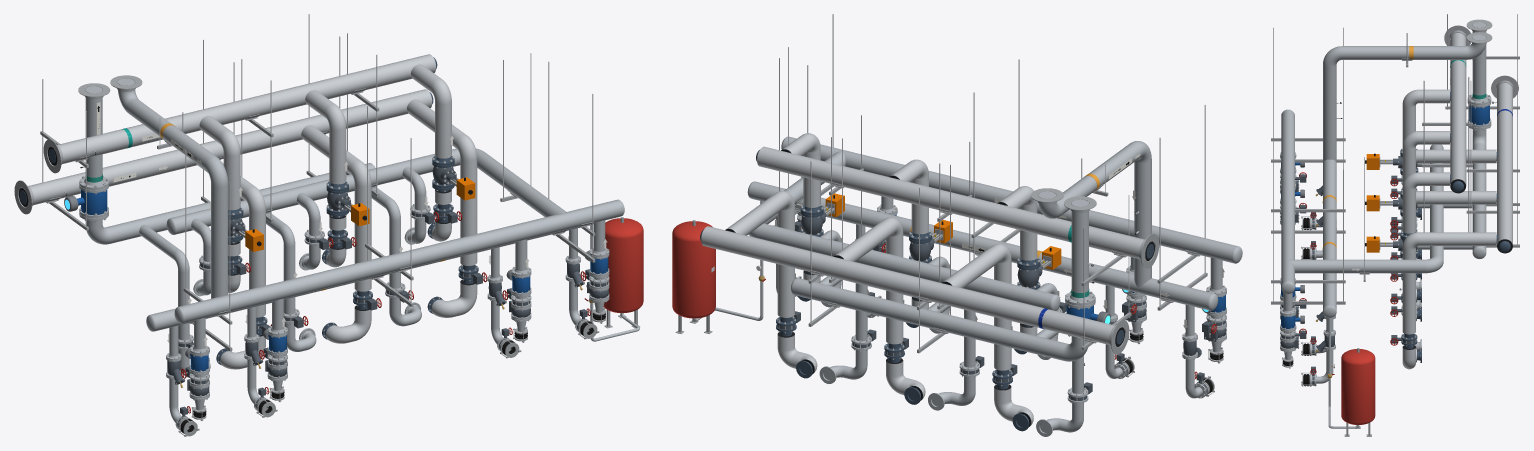
The model's file is pcw-loop.glb.
3 renders of one model, left to right at view 1: azimuth 30°, elevation 25°; view 2: azimuth 150°, elevation 25°; view 3: azimuth 270°, elevation 25°, orthographic. The views are drawn at different scales.
Visible parts, largest first — view 1: PCWL_DischargeHeader, PCWL_CHWReturnHeader, PCWL_CHWSupplyHeader, PCWL_Supports, PCWL_ReturnMain, PCWL_HXInletHeader, PCWL_SupplyHeader, TK_1101_Expansion, PCWL_HX03_CHWIn, PCWL_HX02_CHWIn, PCWL_HX02_CHWOut, PCWL_HX03_CHWOut (+19 smaller); view 2: PCWL_CHWSupplyHeader, PCWL_CHWReturnHeader, PCWL_SupplyHeader, PCWL_Supports, PCWL_ReturnHeader, PCWL_DischargeHeader, PCWL_HXInletHeader, PCWL_ReturnMain, TK_1101_Expansion, PCWL_HX03_CHWIn, PCWL_HX02_CHWIn, PCWL_HX01_CHWIn (+13 smaller); view 3: PCWL_Supports, PCWL_ReturnMain, PCWL_HXInletHeader, PCWL_CHWSupplyHeader, PCWL_HX03_CHWIn, PCWL_CHWReturnHeader, TK_1101_Expansion, PCWL_DischargeHeader, PCWL_SupplyHeader, PCWL_ReturnHeader, PCWL_HX03_CHWOut, PCWL_HX02_CHWIn (+15 smaller).
Boxes of the visible parts, left/top/right/bottom form: PCWL_DischargeHeader: left=174, top=199, right=624, bottom=323; PCWL_CHWReturnHeader: left=43, top=54, right=437, bottom=173; PCWL_CHWSupplyHeader: left=14, top=89, right=433, bottom=214; PCWL_Supports: left=40, top=14, right=595, bottom=351; PCWL_ReturnMain: left=110, top=75, right=228, bottom=298; PCWL_HXInletHeader: left=166, top=148, right=565, bottom=234; PCWL_SupplyHeader: left=78, top=83, right=375, bottom=244; TK_1101_Expansion: left=603, top=217, right=643, bottom=328; PCWL_HX03_CHWIn: left=407, top=99, right=477, bottom=317; PCWL_HX02_CHWIn: left=301, top=125, right=371, bottom=343; PCWL_HX02_CHWOut: left=305, top=90, right=348, bottom=267; PCWL_HX03_CHWOut: left=411, top=64, right=453, bottom=241; PCWL_CHWSupplyHeader: left=700, top=226, right=1129, bottom=354; PCWL_CHWReturnHeader: left=756, top=146, right=1159, bottom=268; PCWL_SupplyHeader: left=791, top=196, right=1096, bottom=361; PCWL_Supports: left=779, top=14, right=1207, bottom=353; PCWL_ReturnHeader: left=747, top=181, right=1218, bottom=310; PCWL_DischargeHeader: left=781, top=136, right=1242, bottom=263; PCWL_HXInletHeader: left=748, top=150, right=1060, bottom=310; PCWL_ReturnMain: left=1031, top=141, right=1151, bottom=288; TK_1101_Expansion: left=672, top=220, right=715, bottom=333; PCWL_HX03_CHWIn: left=725, top=191, right=817, bottom=378; PCWL_HX02_CHWIn: left=833, top=217, right=925, bottom=404; PCWL_HX01_CHWIn: left=942, top=243, right=1033, bottom=431; PCWL_Supports: left=1271, top=14, right=1519, bottom=304; PCWL_ReturnMain: left=1323, top=32, right=1492, bottom=161; PCWL_HXInletHeader: left=1288, top=144, right=1443, bottom=273; PCWL_CHWSupplyHeader: left=1491, top=75, right=1518, bottom=253; PCWL_HX03_CHWIn: left=1402, top=232, right=1498, bottom=369; PCWL_CHWReturnHeader: left=1444, top=25, right=1471, bottom=193; TK_1101_Expansion: left=1341, top=348, right=1375, bottom=436; PCWL_DischargeHeader: left=1281, top=109, right=1295, bottom=293; PCWL_SupplyHeader: left=1466, top=19, right=1492, bottom=258; PCWL_ReturnHeader: left=1322, top=159, right=1336, bottom=317; PCWL_HX03_CHWOut: left=1402, top=172, right=1451, bottom=302; PCWL_HX02_CHWIn: left=1416, top=191, right=1498, bottom=321.
Bounding box in the file's own units: 11.45 × 6 × 5.85.
